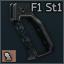AR-15 F1 Firearms Skeletonized Style 1 pistol grip: (0, 0, 64, 64)
